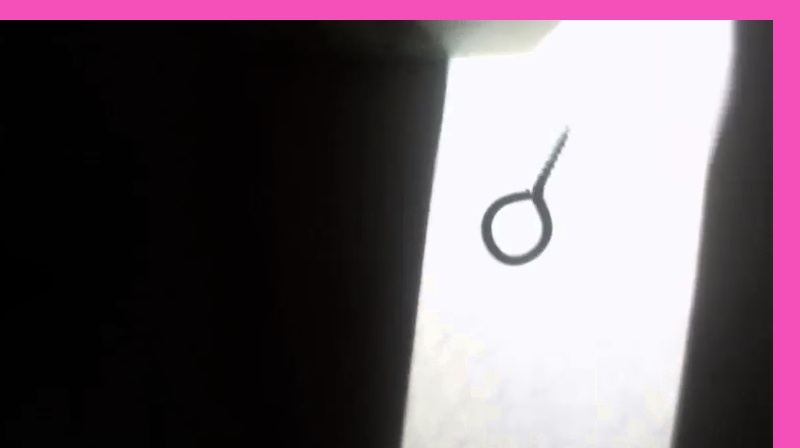O001: (476, 122, 576, 268)
